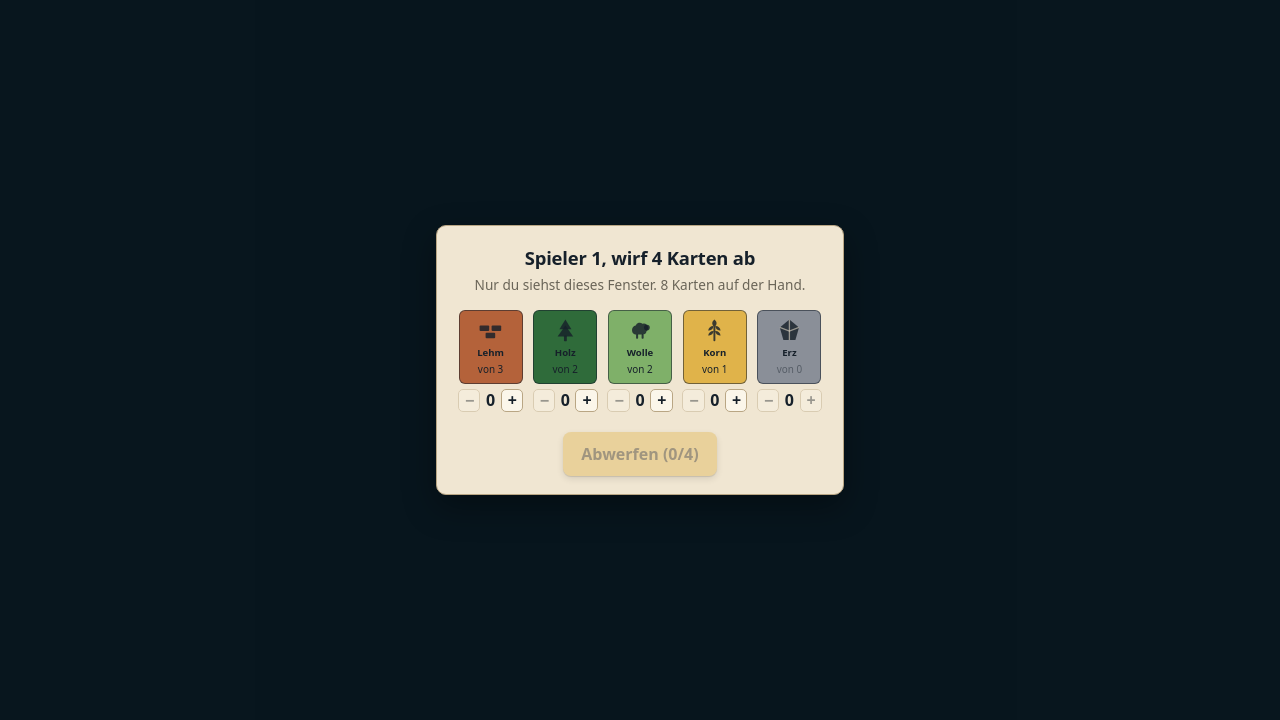
Scenario: DiscardDialog › macht alle Schritte tot, sobald die geforderte Zahl beisammen ist
Click the button named "Lehm mehr" at (512,400), box [501,389,523,412]
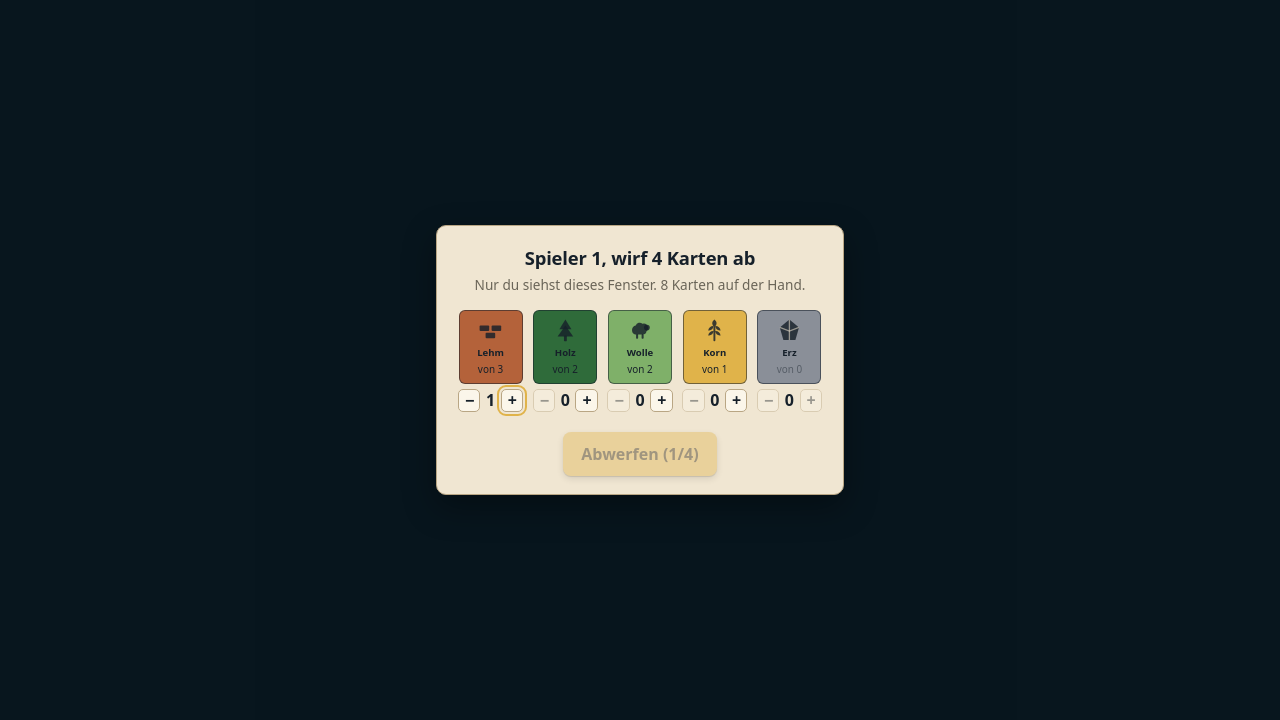
Click the button named "Lehm mehr" at (512,400), box [501,389,523,412]
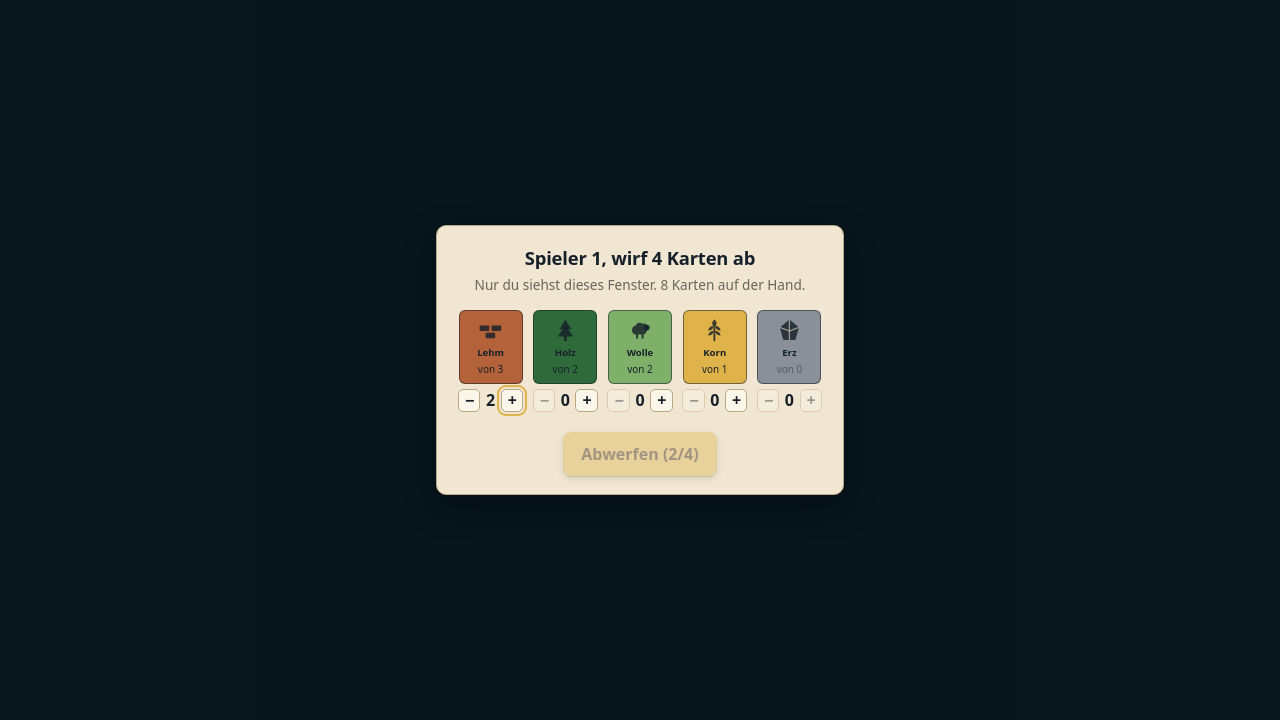
Click the button named "Lehm mehr" at (512,400), box [501,389,523,412]
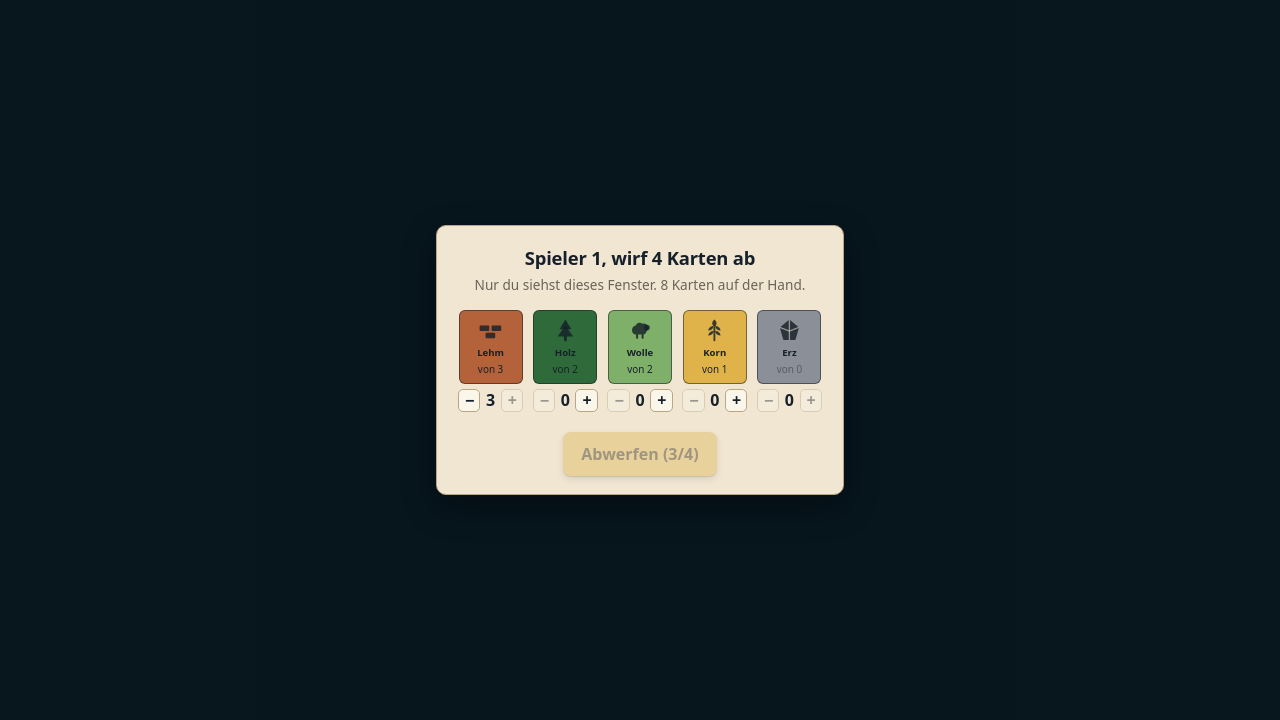
Click the button named "Holz mehr" at (587,400), box [576,389,598,412]
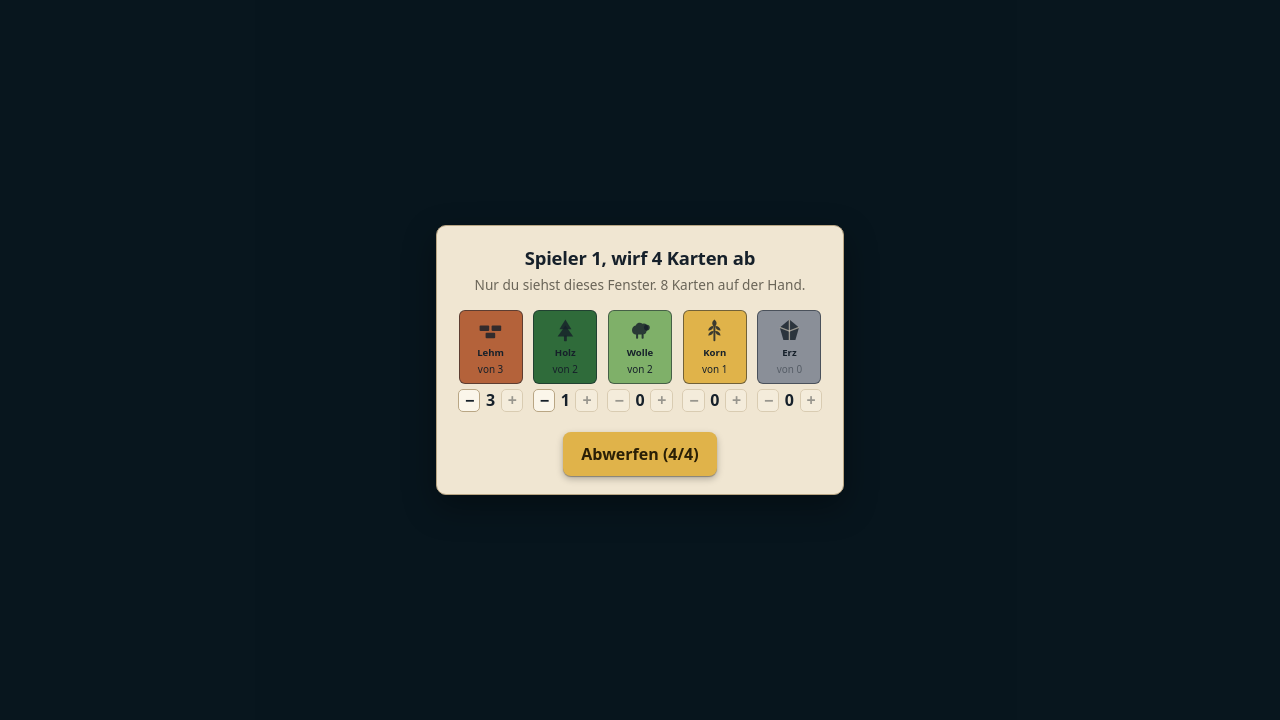
Expected: the button "Abwerfen (4/4)" is enabled, [563,432,717,476]
Expected: the button named "Holz mehr" is disabled, [576,389,598,412]
Expected: the button named "Korn mehr" is disabled, [725,389,747,412]
